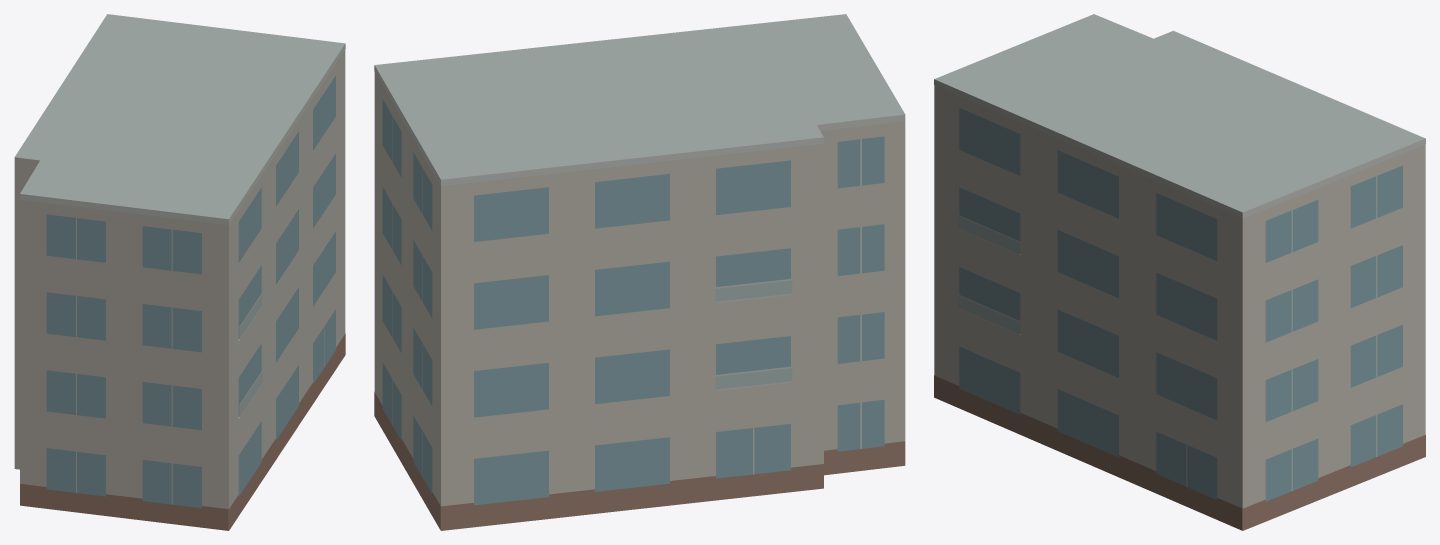
File: survey-upis-32908165.glb
3 renders of one model, left to right at view 1: azimuth 30°, elevation 25°; view 2: azimuth 150°, elevation 25°; view 3: azimuth 270°, elevation 25°, orthographic. The views are drawn at different scales.
Visible parts, largest first — view 1: survey-upis-32908165.tmp; view 2: survey-upis-32908165.tmp; view 3: survey-upis-32908165.tmp.
Part boxes in pixels (box(x1,y1,x2,y2)): survey-upis-32908165.tmp: box(14, 14, 345, 530); survey-upis-32908165.tmp: box(374, 14, 905, 530); survey-upis-32908165.tmp: box(934, 14, 1425, 530).
Bounding box in the file's own units: 17.67 × 13.2 × 18.48.
